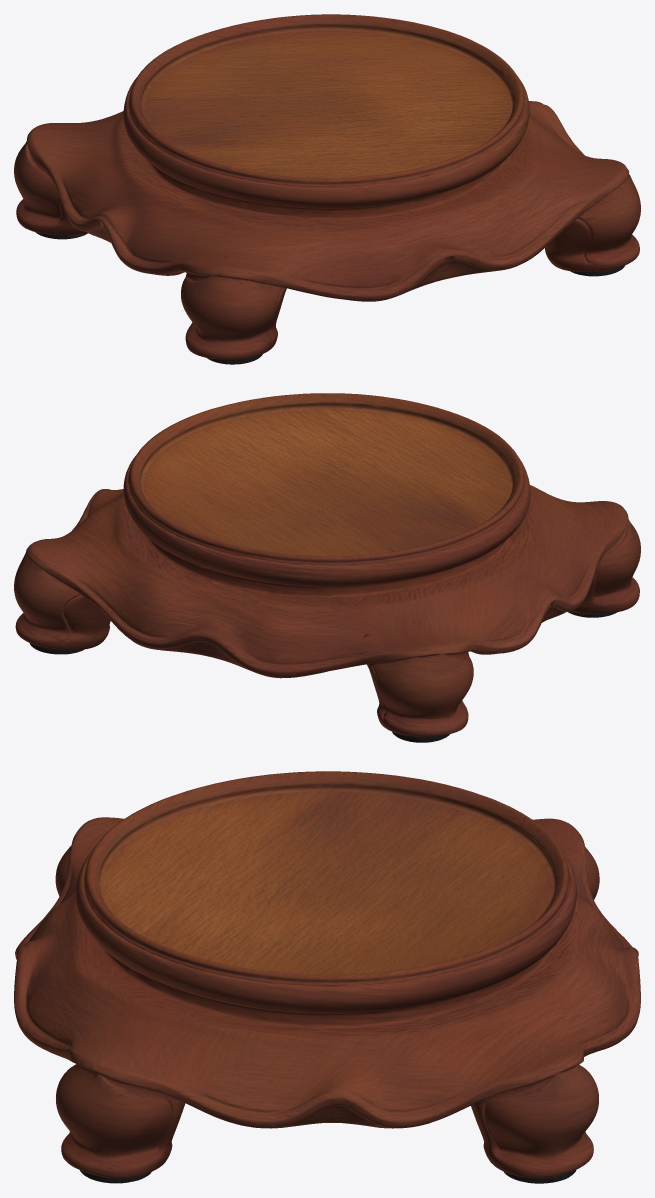
The picture shows the model from 3 angles, top to bottom: view 1: azimuth 30°, elevation 25°; view 2: azimuth 150°, elevation 25°; view 3: azimuth 270°, elevation 25°; orthographic projection. The views are drawn at different scales.
Visible parts, largest first — view 1: node_0; view 2: node_0; view 3: node_0.
Boxes of the visible parts, left/top/right/bottom form: node_0: left=14, top=14, right=640, bottom=364; node_0: left=14, top=393, right=640, bottom=742; node_0: left=14, top=771, right=640, bottom=1183.
Size of the model in its own units: 0.9777 by 0.3067 by 0.9417.
1 material, 1 textured.
